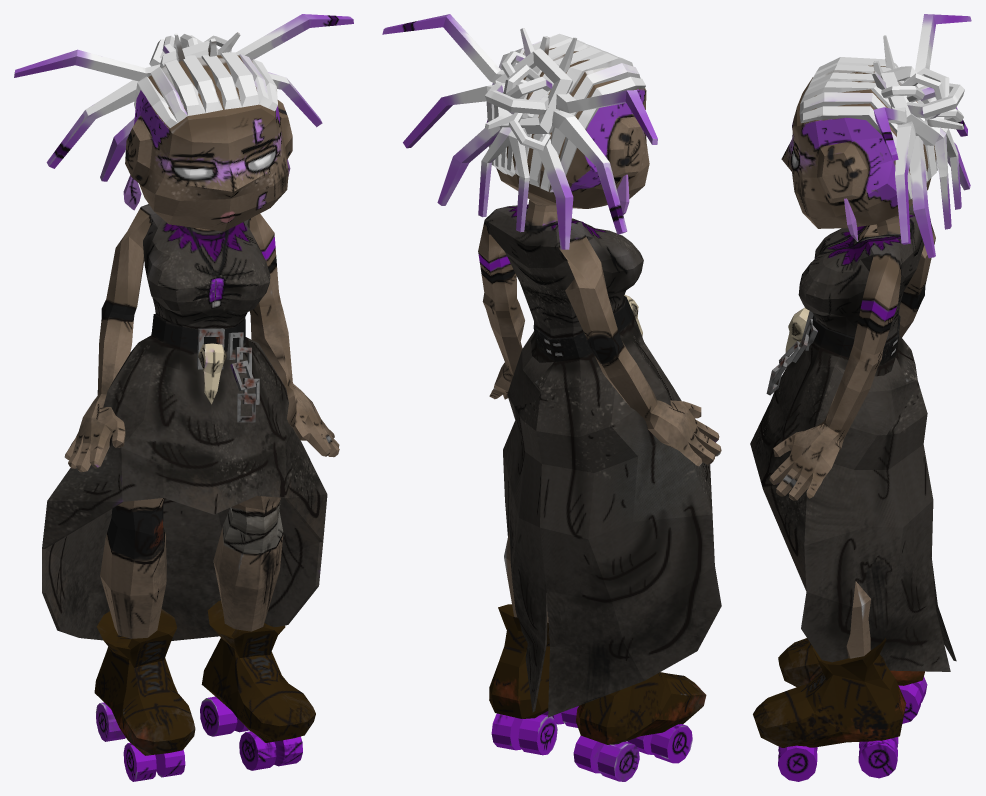
The model's file is bruja_000036.obj.
3 views of the same model, side by side, from view 1: azimuth 30°, elevation 25°; view 2: azimuth 150°, elevation 25°; view 3: azimuth 270°, elevation 25° (orthographic). The views are drawn at different scales.
Visible parts, largest first — view 1: Bruja_Plane.001; view 2: Bruja_Plane.001; view 3: Bruja_Plane.001.
Boxes of the visible parts, x1,y1,x2,y2 form: Bruja_Plane.001: (14, 14, 353, 781); Bruja_Plane.001: (382, 14, 721, 781); Bruja_Plane.001: (750, 14, 971, 781).
Bounding box in the file's own units: 7.73 × 16.47 × 4.65.
